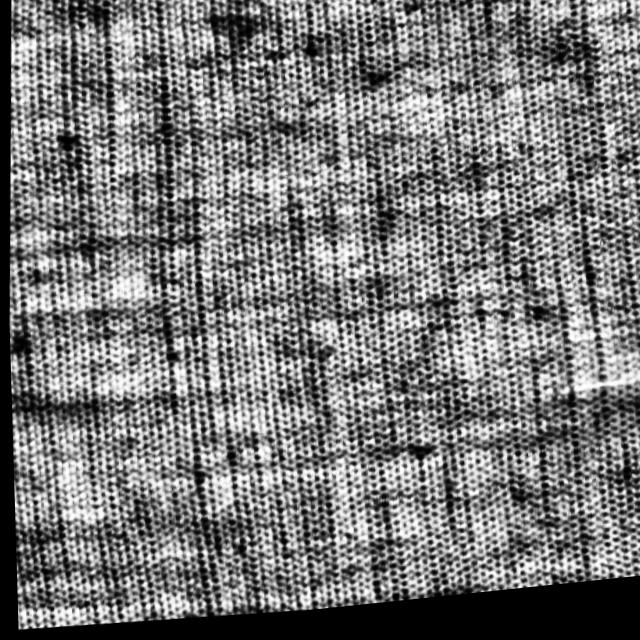Hole: (540, 375, 640, 413)
